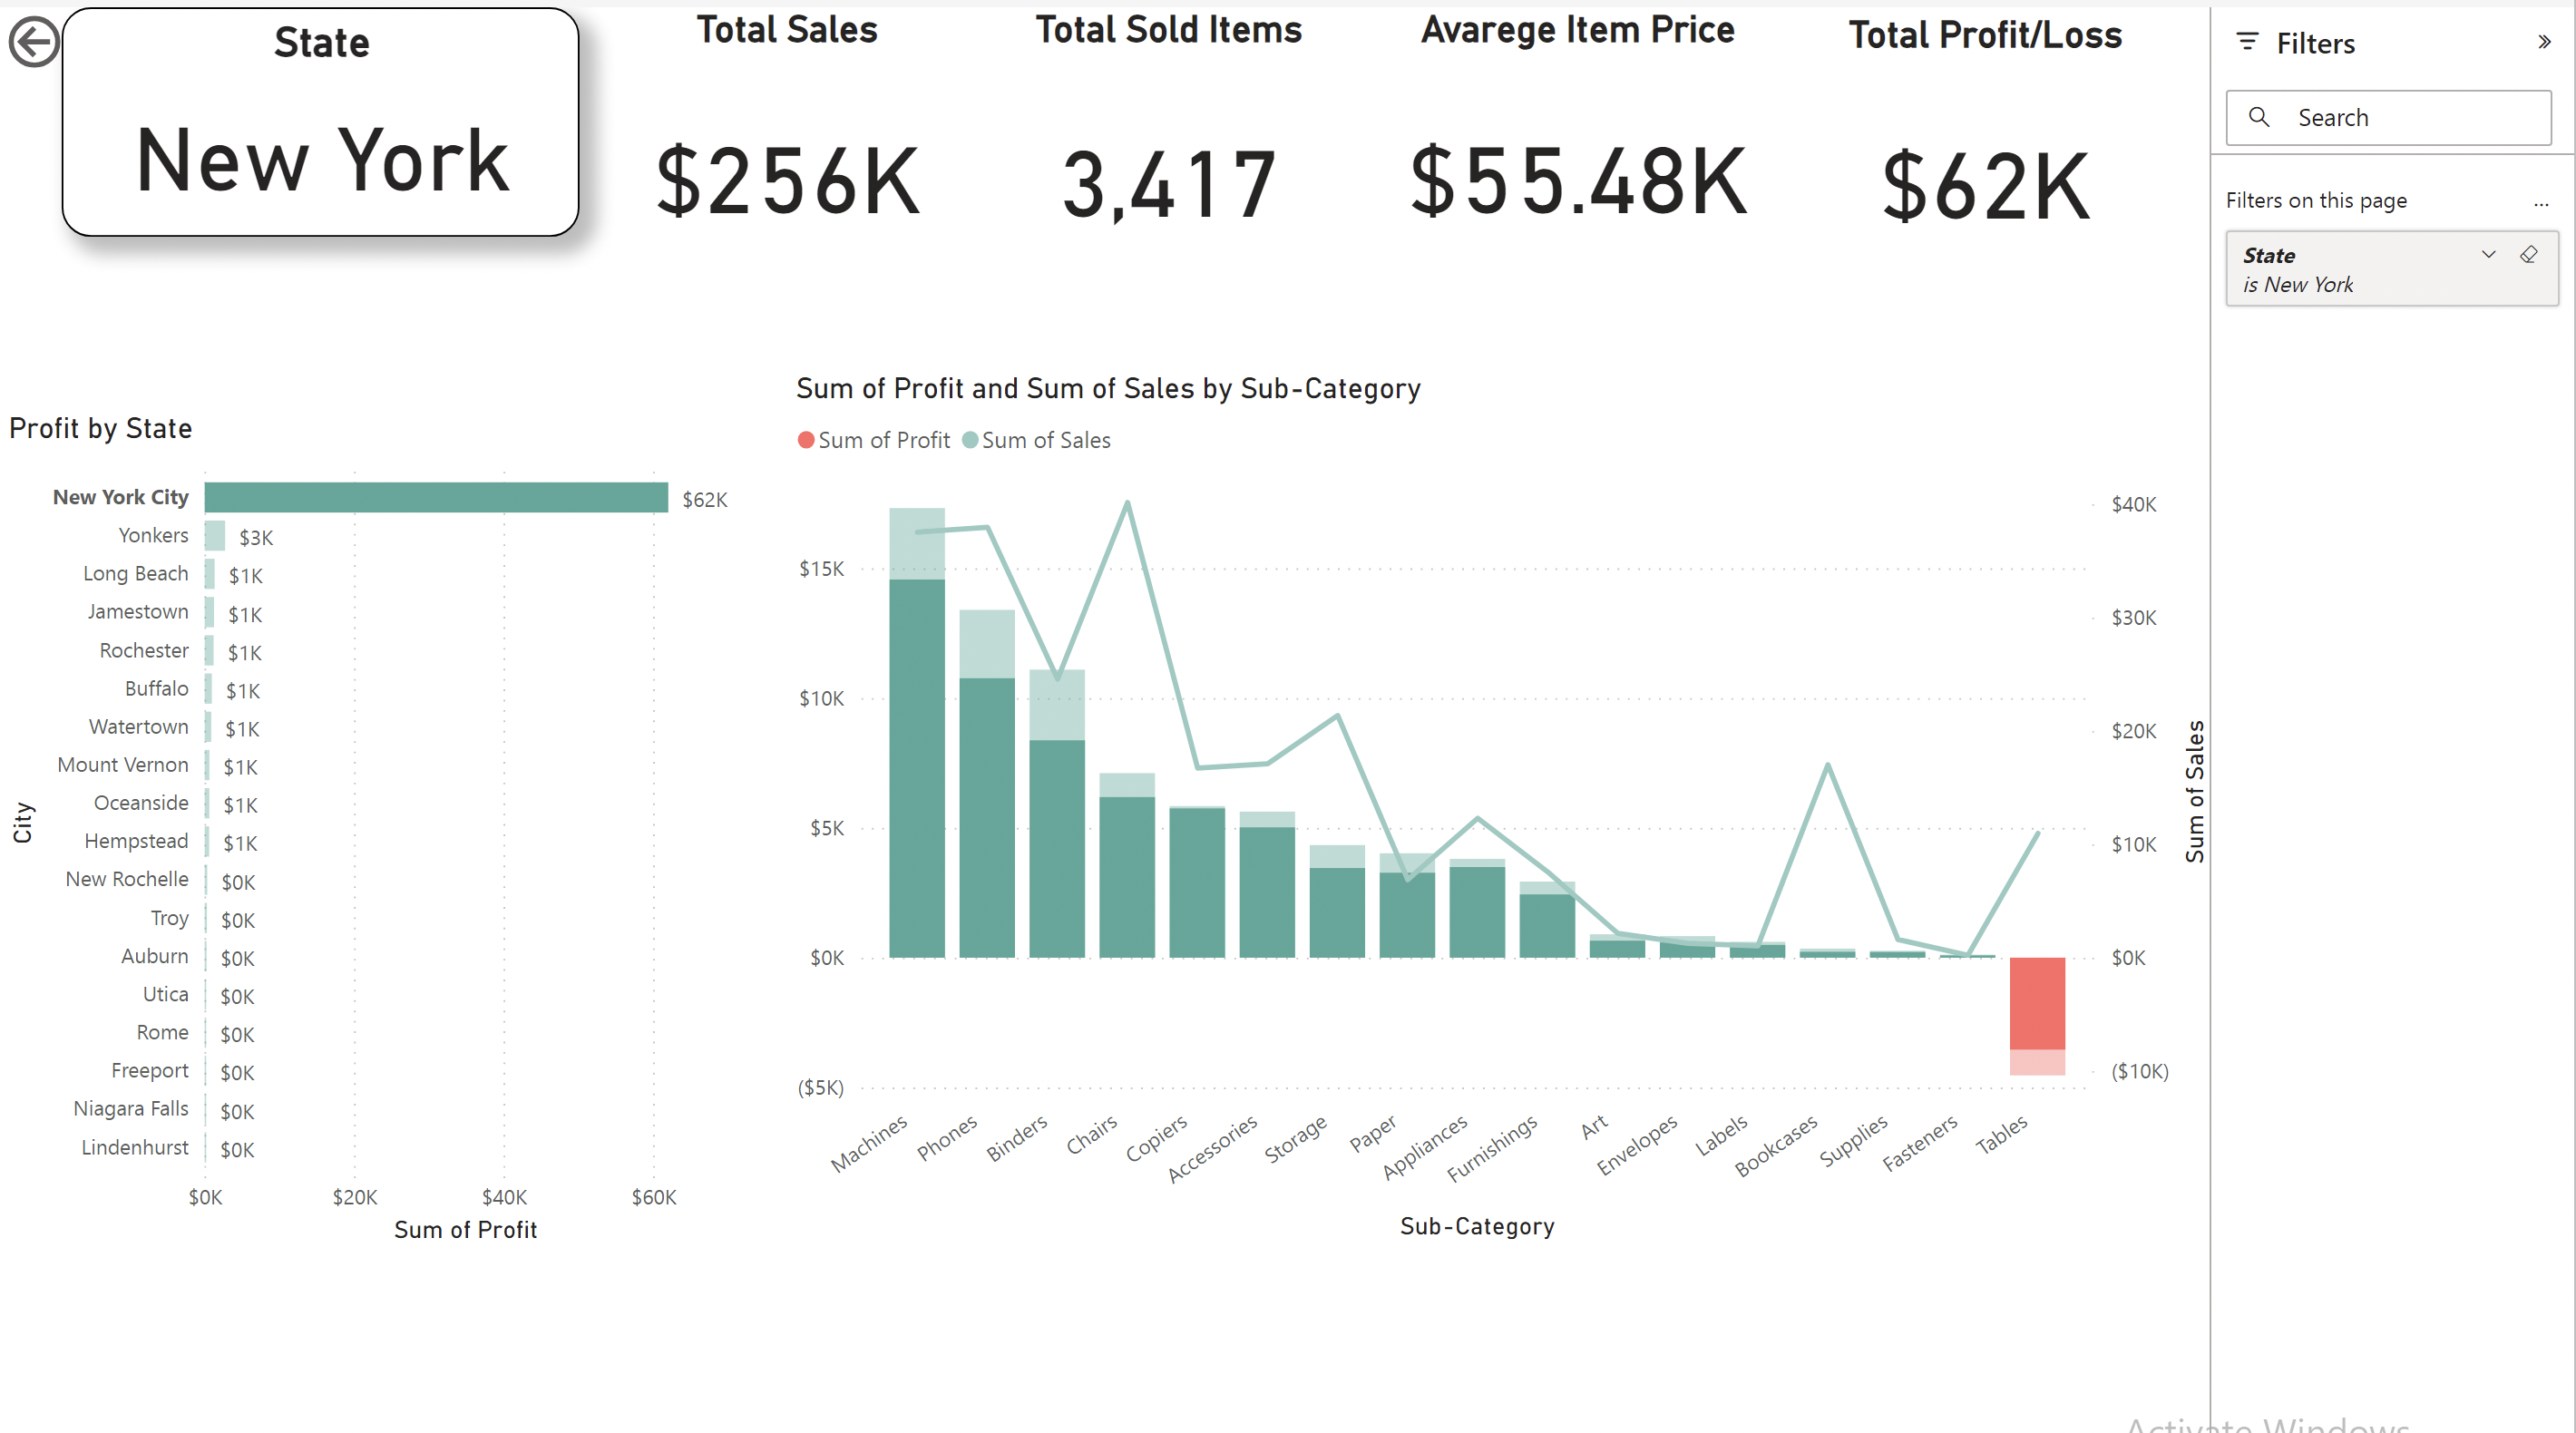

The page's visual inventory and layout, read from the dashboard file:
{"tool":"powerbi","page":{"name":"Geographical Insights","canvas":[1280,720],"ordinal":4},"visuals":[{"type":"group","id":"g1","title":"Group 1","box":[0,0,1284.3,720.5],"z":0},{"type":"clusteredBarChart","title":"Profit by State","fields":{"Y":["Sum(SalesFact.Profit)"],"Category":["LocationDim.Country Hierarchy.City","LocationDim.Country Hierarchy.Postal Code"]},"box":[0,234.2,440.7,486.3],"z":0,"group":"g1"},{"type":"actionButton","box":[0,0,100,40],"z":1000},{"type":"card","title":"Total Profit/Loss","fields":{"Values":["Sum(SalesFact.Profit)"]},"box":[1020,3.4,260,162.7],"z":1000,"group":"g1"},{"type":"card","title":"Avarege Item Price","fields":{"Values":["Sum(SalesFact.Avg Item Price (after discount))"]},"box":[791.9,0,244.1,162],"z":2000},{"type":"lineClusteredColumnComboChart","fields":{"Category":["CategoryDim.Category Hierarchy.Category","CategoryDim.Category Hierarchy.Sub-Category"],"Y2":["Sum(SalesFact.Sales)"],"Y":["Sum(SalesFact.Profit)"]},"box":[456.4,211.1,827.5,507.5],"z":2000,"group":"g1"},{"type":"card","title":"State","fields":{"Values":["Min(LocationDim.State)"]},"box":[35.7,0,300.2,132.8],"z":3000},{"type":"card","title":"Total Sales","fields":{"Values":["Sum(SalesFact.Sales)"]},"box":[336.8,0,239.8,162],"z":3000,"group":"g1"},{"type":"card","title":"Total Sold Items","fields":{"Values":["Sum(SalesFact.Quantity)"]},"box":[563.8,0,228.1,166.3],"z":4000,"group":"g1"}]}

Visuals, with their boxes on the page's 1280x720 design canvas (x1, y1, x2, y2). These are canvas units, not pixel positions in the 2576x1433 screenshot, which may show the page scaled, cropped or inside an application window:
"Group 1" group: <box>0,0,1284,720</box>
"Profit by State" clusteredBarChart: <box>0,234,441,720</box>
actionButton: <box>0,0,100,40</box>
"Total Profit/Loss" card: <box>1020,3,1280,166</box>
"Avarege Item Price" card: <box>792,0,1036,162</box>
lineClusteredColumnComboChart - CategoryDim.Category Hierarchy.Category x CategoryDim.Category Hierarchy.Sub-Category: <box>456,211,1284,719</box>
"State" card: <box>36,0,336,133</box>
"Total Sales" card: <box>337,0,577,162</box>
"Total Sold Items" card: <box>564,0,792,166</box>
